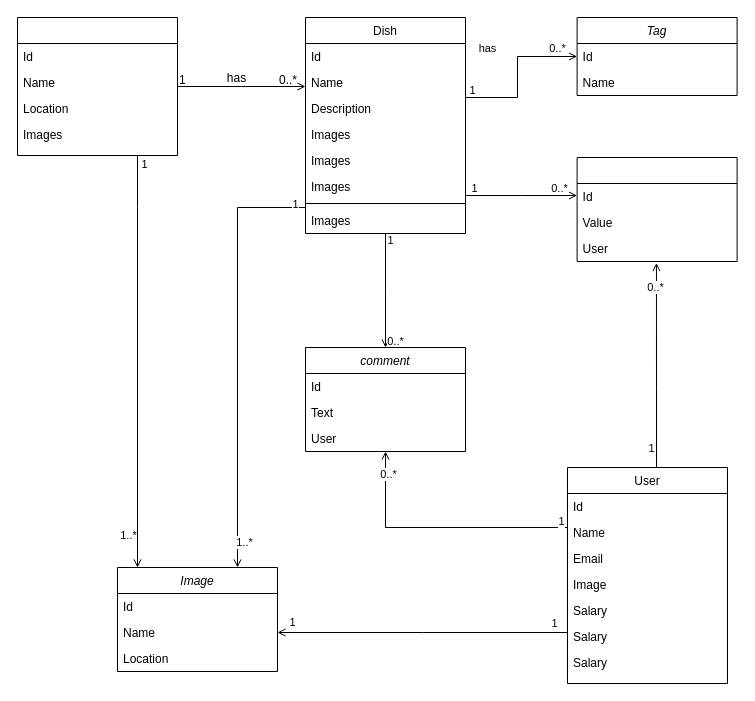
Image size: 755x701. Some labels were removed from this diagram. The shapes that lost their labels are listed below. From the top down, each one's box as (x1, y1, x2, y2) in pixels, then its label:
(16, 16, 178, 156): Restaurant
(576, 156, 737, 262): rating
